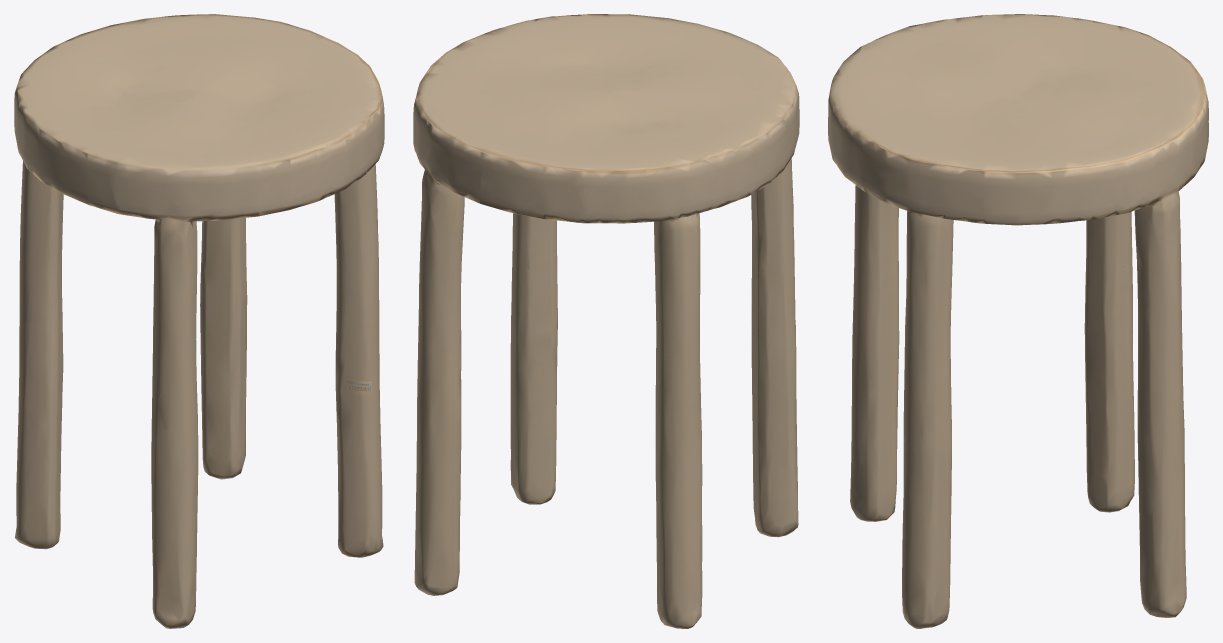
The model's file is raw_stool_tripo.glb.
3 views of the same model, side by side, from view 1: azimuth 30°, elevation 25°; view 2: azimuth 150°, elevation 25°; view 3: azimuth 270°, elevation 25° (orthographic). The views are drawn at different scales.
Parts seen in each view (by area): view 1: tripo_node_89faadbe-6cbe-4e93-9056-a8833c6e36bb; view 2: tripo_node_89faadbe-6cbe-4e93-9056-a8833c6e36bb; view 3: tripo_node_89faadbe-6cbe-4e93-9056-a8833c6e36bb.
Part boxes in pixels (box(x1,y1,x2,y2)): tripo_node_89faadbe-6cbe-4e93-9056-a8833c6e36bb: box(14, 14, 384, 628); tripo_node_89faadbe-6cbe-4e93-9056-a8833c6e36bb: box(413, 14, 799, 628); tripo_node_89faadbe-6cbe-4e93-9056-a8833c6e36bb: box(828, 14, 1208, 628).
Size of the model in its own units: 0.7265 by 1 by 0.7269.
Materials: 1 (1 with a texture image).
